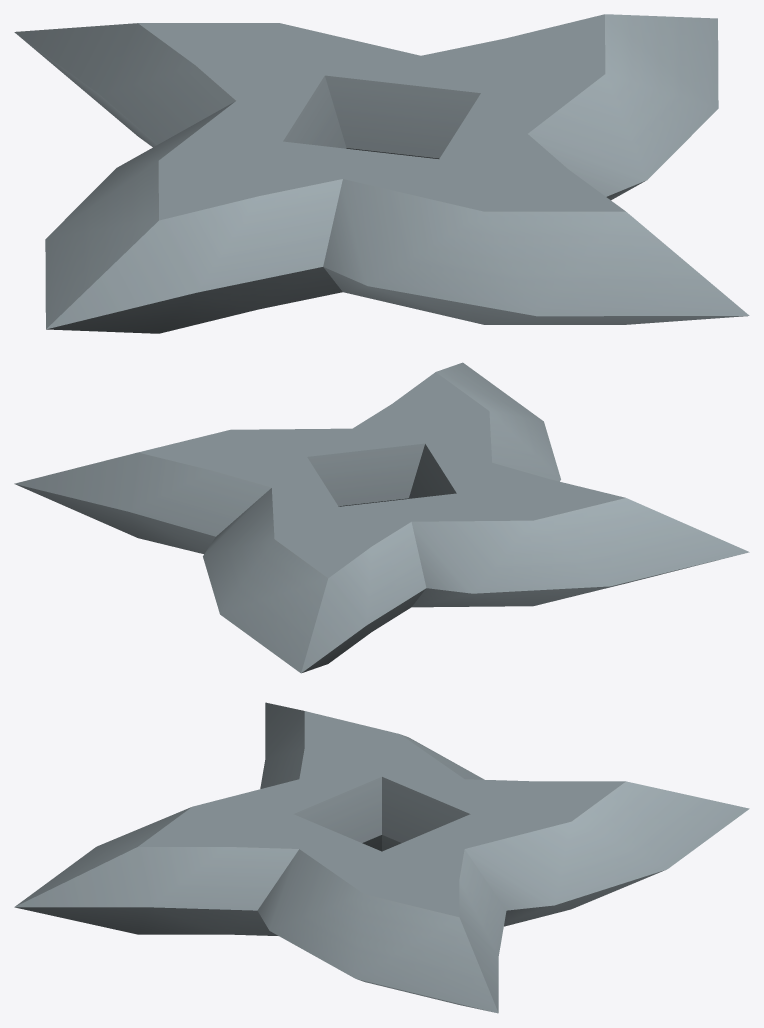
File: prop_shuriken.glb
3 renders of one model, top to bottom at view 1: azimuth 30°, elevation 25°; view 2: azimuth 150°, elevation 25°; view 3: azimuth 270°, elevation 25°, orthographic. The views are drawn at different scales.
Parts seen in each view (by area): view 1: Ninja_Shuriken; view 2: Ninja_Shuriken; view 3: Ninja_Shuriken.
Boxes of the visible parts, x1,y1,x2,y2 form: Ninja_Shuriken: [14, 14, 749, 333]; Ninja_Shuriken: [14, 362, 749, 673]; Ninja_Shuriken: [14, 702, 749, 1013].
Bounding box in the file's own units: 0.4386 × 0.0577 × 0.4386.
Materials: 1 (1 with a texture image).
